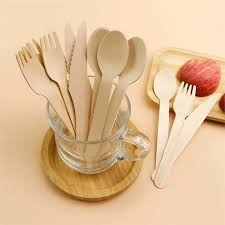Wooden Utensils: (25, 24, 135, 138), (147, 74, 203, 189)
